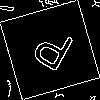P: (25, 25, 77, 81)
